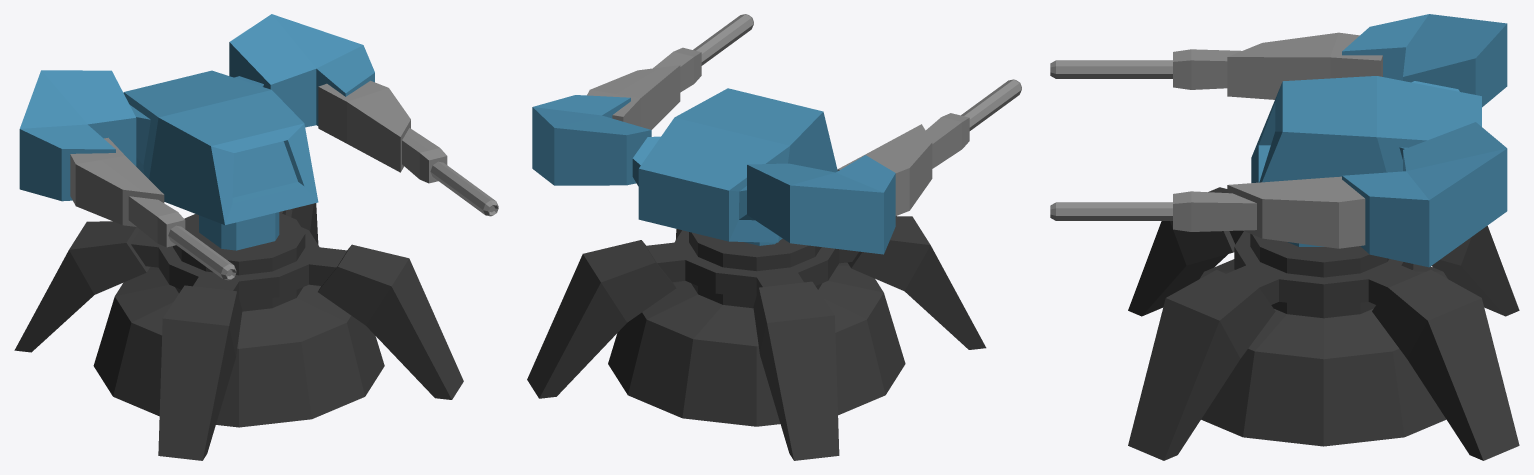
The model's file is Turrets_7.fbx.
The picture shows the model from 3 angles, left to right: view 1: azimuth 30°, elevation 25°; view 2: azimuth 150°, elevation 25°; view 3: azimuth 270°, elevation 25°; orthographic projection. The views are drawn at different scales.
Visible parts, largest first — view 1: Turret_5.001, Turret_5.002, Turret_5.003; view 2: Turret_5.001, Turret_5.002, Turret_5.003; view 3: Turret_5.001, Turret_5.002, Turret_5.003.
Part boxes in pixels (left/top/right/bottom): Turret_5.001: left=14, top=203, right=463, bottom=460; Turret_5.002: left=19, top=14, right=374, bottom=250; Turret_5.003: left=70, top=80, right=498, bottom=280; Turret_5.001: left=527, top=216, right=986, bottom=460; Turret_5.002: left=532, top=88, right=895, bottom=254; Turret_5.003: left=587, top=14, right=1021, bottom=215; Turret_5.001: left=1128, top=187, right=1519, bottom=460; Turret_5.002: left=1251, top=14, right=1507, bottom=267; Turret_5.003: left=1050, top=32, right=1382, bottom=248.
Bounding box in the file's own units: 2.73 × 2 × 2.9.
